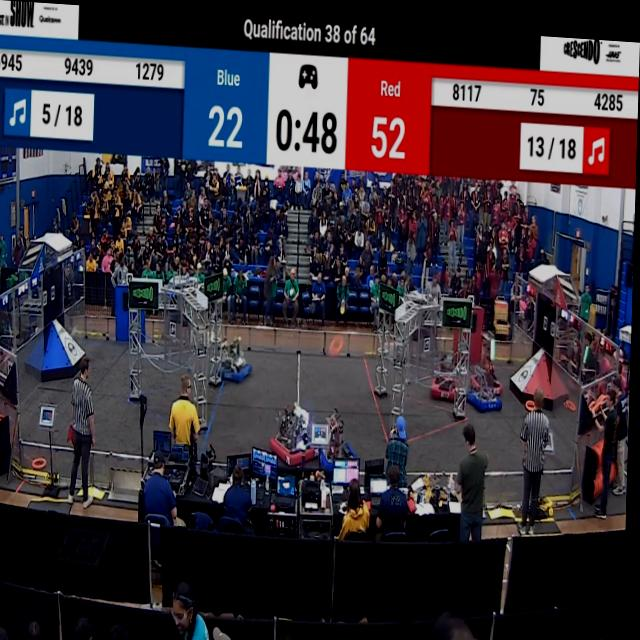Robot: (270, 385, 324, 464), (319, 394, 363, 472), (468, 310, 509, 392), (426, 332, 474, 399), (468, 350, 508, 411), (220, 330, 256, 383)
